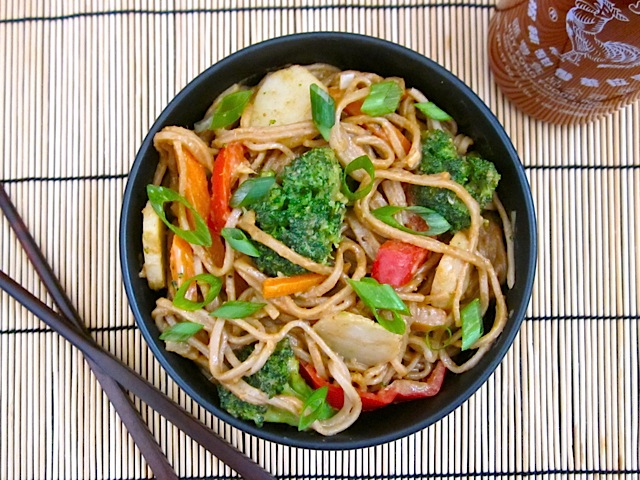Soba: (146, 55, 522, 436)
